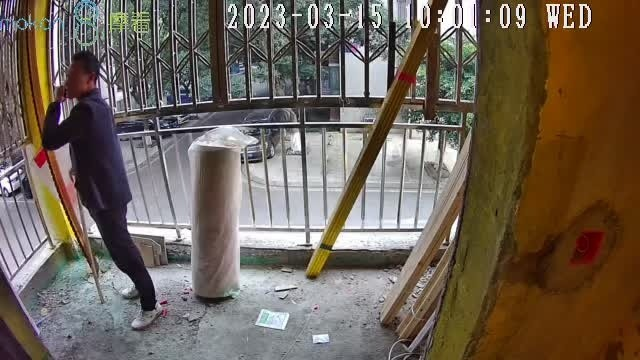people: (40, 50, 163, 331)
window: (1, 1, 477, 288)
